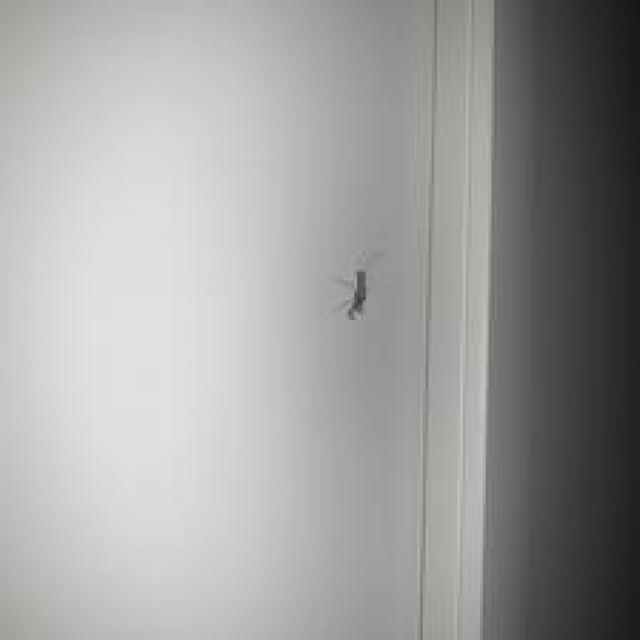Culex: (340, 269, 369, 320)
